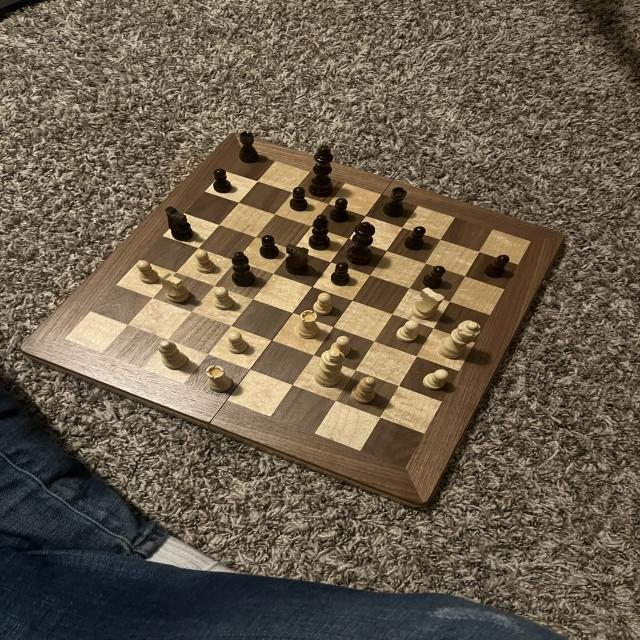bishop: (225, 249, 259, 291), (306, 211, 334, 254)
black-bishop: (305, 143, 339, 201)
black-king: (164, 204, 200, 246), (283, 241, 311, 277)
black-knight: (481, 250, 512, 282), (419, 264, 448, 290), (402, 224, 428, 252), (328, 261, 354, 288), (210, 167, 235, 195), (256, 232, 281, 259), (328, 197, 350, 224), (290, 185, 310, 212)
black-pawn: (342, 218, 378, 268)
black-queen: (235, 130, 264, 165), (381, 185, 410, 219)
black-rook: (154, 338, 192, 374), (348, 374, 382, 406)
white-bishop: (313, 346, 348, 389)
white-king: (154, 268, 195, 306), (408, 285, 448, 321)
white-knight: (132, 257, 164, 287), (224, 330, 255, 358), (191, 247, 218, 277), (420, 367, 451, 393), (212, 284, 240, 312), (394, 317, 422, 344), (327, 334, 355, 358), (312, 290, 336, 317)
white-pawn: (434, 318, 482, 364)
white-queen: (204, 364, 236, 396), (292, 309, 324, 341)
